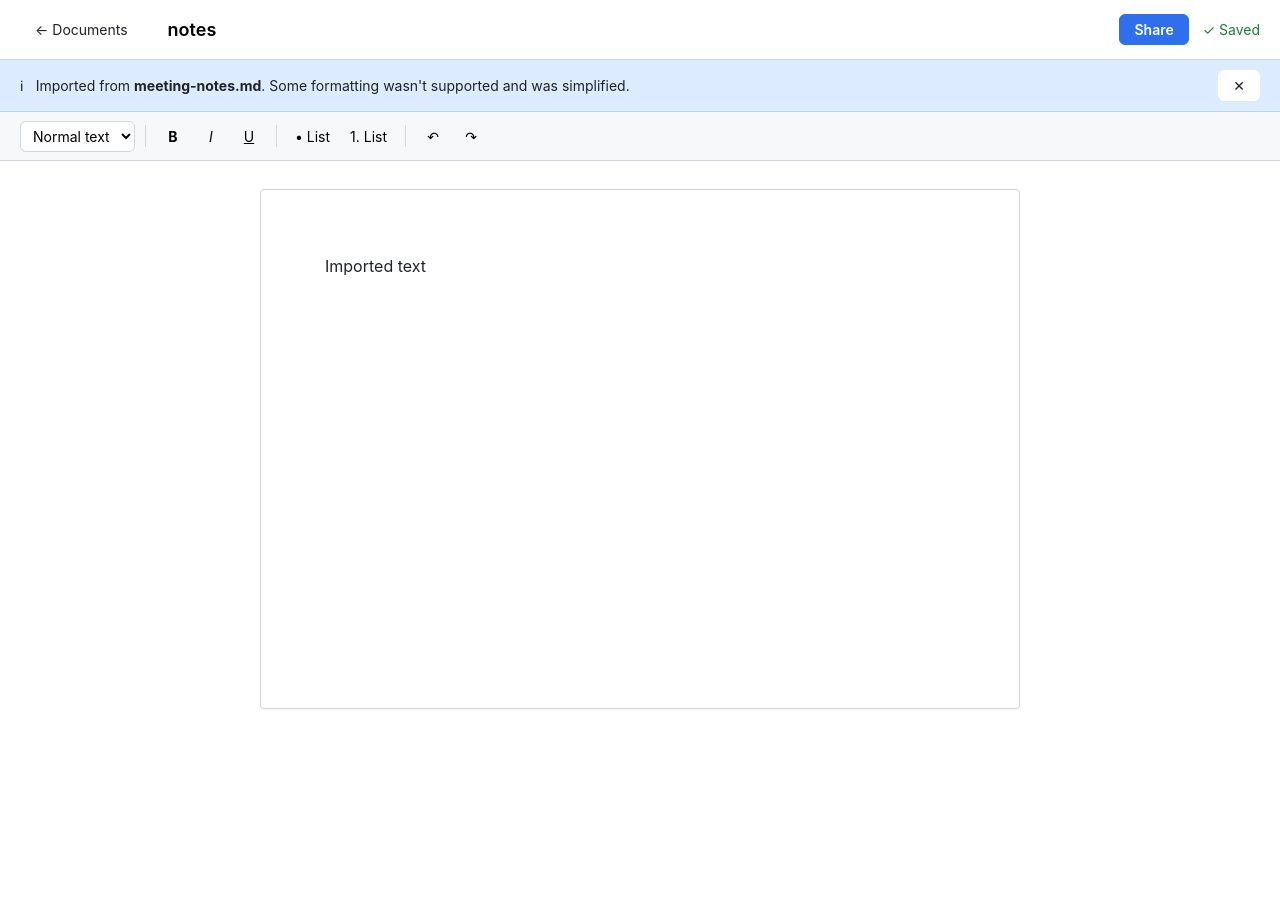
it: imported document note in the editor › can be dismissed
The width and height of the screenshot is (1280, 900).
Earlier steps of the test are not shown.
Later steps or results of the test are not shown.
Expected: the text box "Imported text" is shown, 325,256 -> 426,276
What coordinates should you click on to do the following:
click the button named "Dismiss import note"
I would click on:
 (1239, 86)
Its box is 1218,70 -> 1260,101.
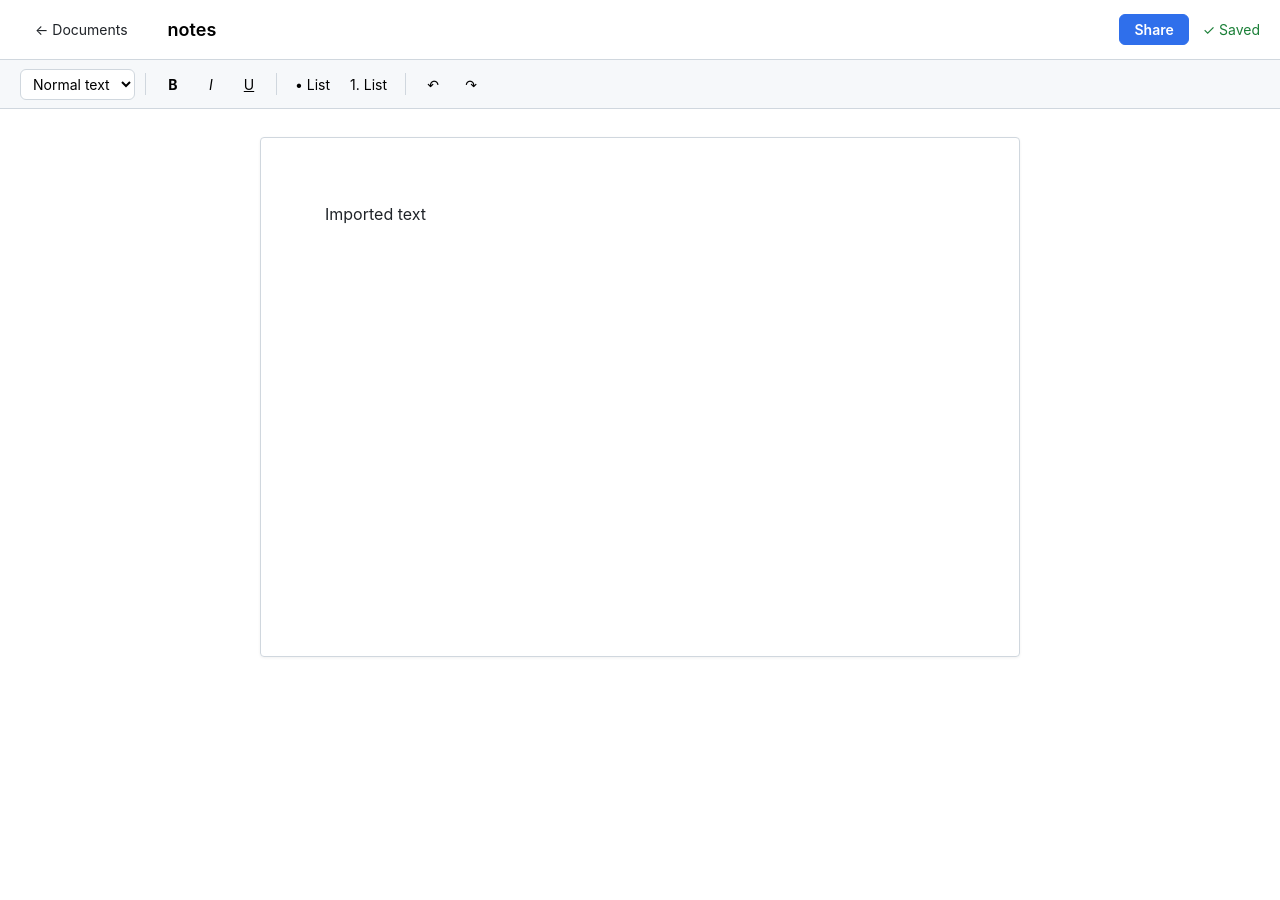
Now the text "was simplified" is gone
